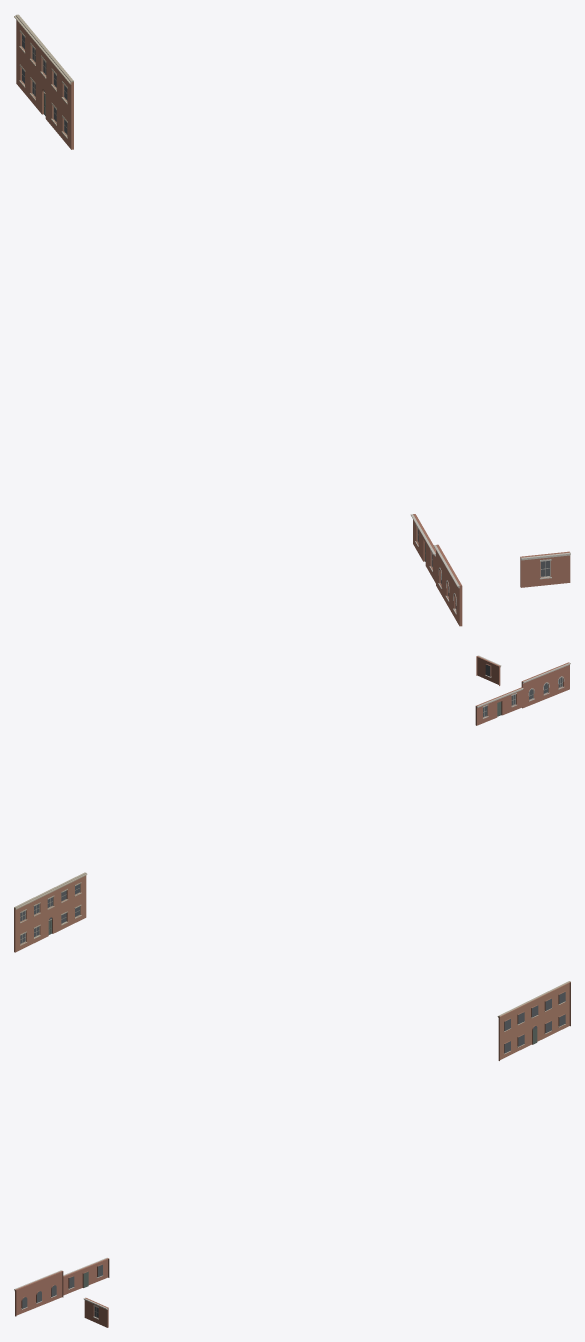
The picture shows the model from 3 angles, top to bottom: view 1: azimuth 30°, elevation 25°; view 2: azimuth 150°, elevation 25°; view 3: azimuth 330°, elevation 25°; orthographic projection. The views are drawn at different scales.
Parts seen in each view (by area): view 1: f:way/158932437, f:way/1564060104; view 2: f:way/158932437, f:way/1564060104; view 3: f:way/158932437, f:way/1564060104.
Boxes of the visible parts, x1=… form: f:way/158932437: x1=14, y1=14, x2=73, y2=149; f:way/1564060104: x1=410, y1=514, x2=570, y2=626; f:way/158932437: x1=14, y1=872, x2=87, y2=952; f:way/1564060104: x1=475, y1=655, x2=570, y2=725; f:way/158932437: x1=497, y1=981, x2=570, y2=1060; f:way/1564060104: x1=14, y1=1257, x2=109, y2=1327.
Size of the model in its own units: 22.32 by 9.22 by 121.
